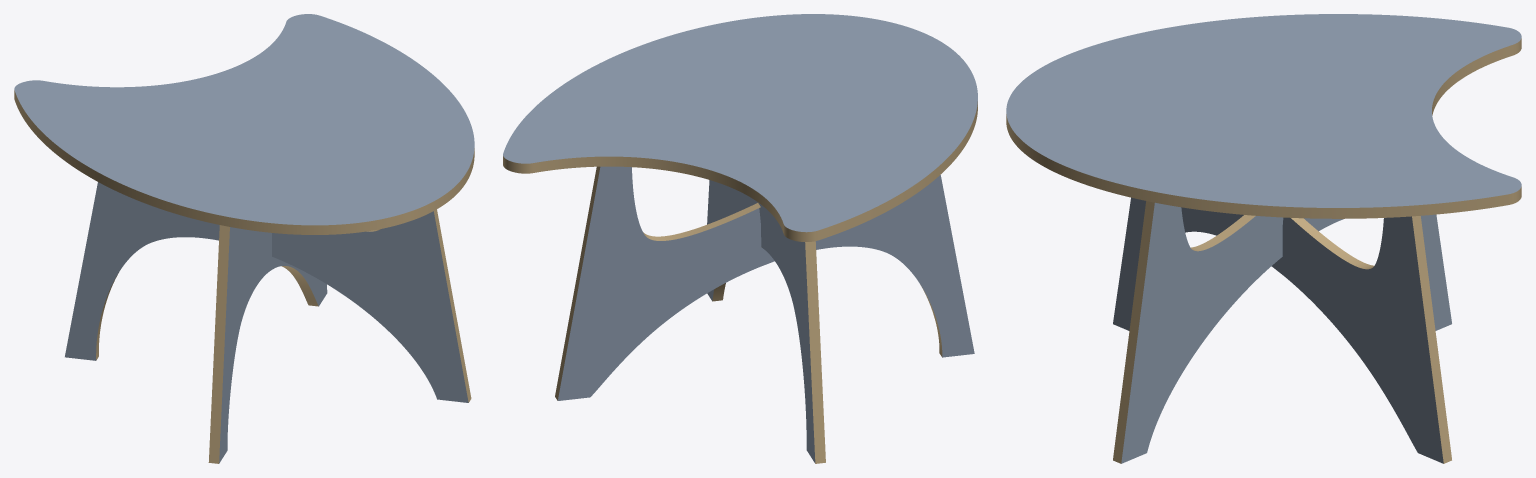
The model's file is NODO_MESA_RATONA_EN_CRUZ_CUARZO_V14_AR_YUP.glb.
3 views of the same model, side by side, from view 1: azimuth 30°, elevation 25°; view 2: azimuth 150°, elevation 25°; view 3: azimuth 270°, elevation 25° (orthographic). The views are drawn at different scales.
Parts seen in each view (by area): view 1: Tapa_cuerpo_18mm, Pata_B_cuerpo, Pata_A_cuerpo, Tapa_canto_18mm_visible, Pata_A_canto, Pata_B_canto; view 2: Tapa_cuerpo_18mm, Pata_A_cuerpo, Pata_B_cuerpo, Tapa_canto_18mm_visible, Pata_B_canto, Pata_A_canto; view 3: Tapa_cuerpo_18mm, Pata_A_cuerpo, Pata_B_cuerpo, Tapa_canto_18mm_visible, Pata_A_canto, Pata_B_canto.
Part boxes in pixels (<box>): Tapa_cuerpo_18mm: <box>14,14,474,225</box>; Pata_B_cuerpo: <box>65,182,468,402</box>; Pata_A_cuerpo: <box>219,227,327,463</box>; Tapa_canto_18mm_visible: <box>14,90,474,234</box>; Pata_A_canto: <box>208,225,318,463</box>; Pata_B_canto: <box>96,209,471,402</box>; Tapa_cuerpo_18mm: <box>503,14,977,232</box>; Pata_A_cuerpo: <box>558,166,974,400</box>; Pata_B_cuerpo: <box>707,180,815,463</box>; Tapa_canto_18mm_visible: <box>503,101,977,241</box>; Pata_B_canto: <box>712,241,825,463</box>; Pata_A_canto: <box>555,166,942,400</box>; Tapa_cuerpo_18mm: <box>1006,14,1521,207</box>; Pata_A_cuerpo: <box>1113,197,1443,463</box>; Pata_B_cuerpo: <box>1121,202,1451,463</box>; Tapa_canto_18mm_visible: <box>1006,38,1521,218</box>; Pata_A_canto: <box>1291,216,1451,463</box>; Pata_B_canto: <box>1113,201,1255,463</box>.
Bounding box in the file's own units: 0.6924 × 0.468 × 0.7771.
